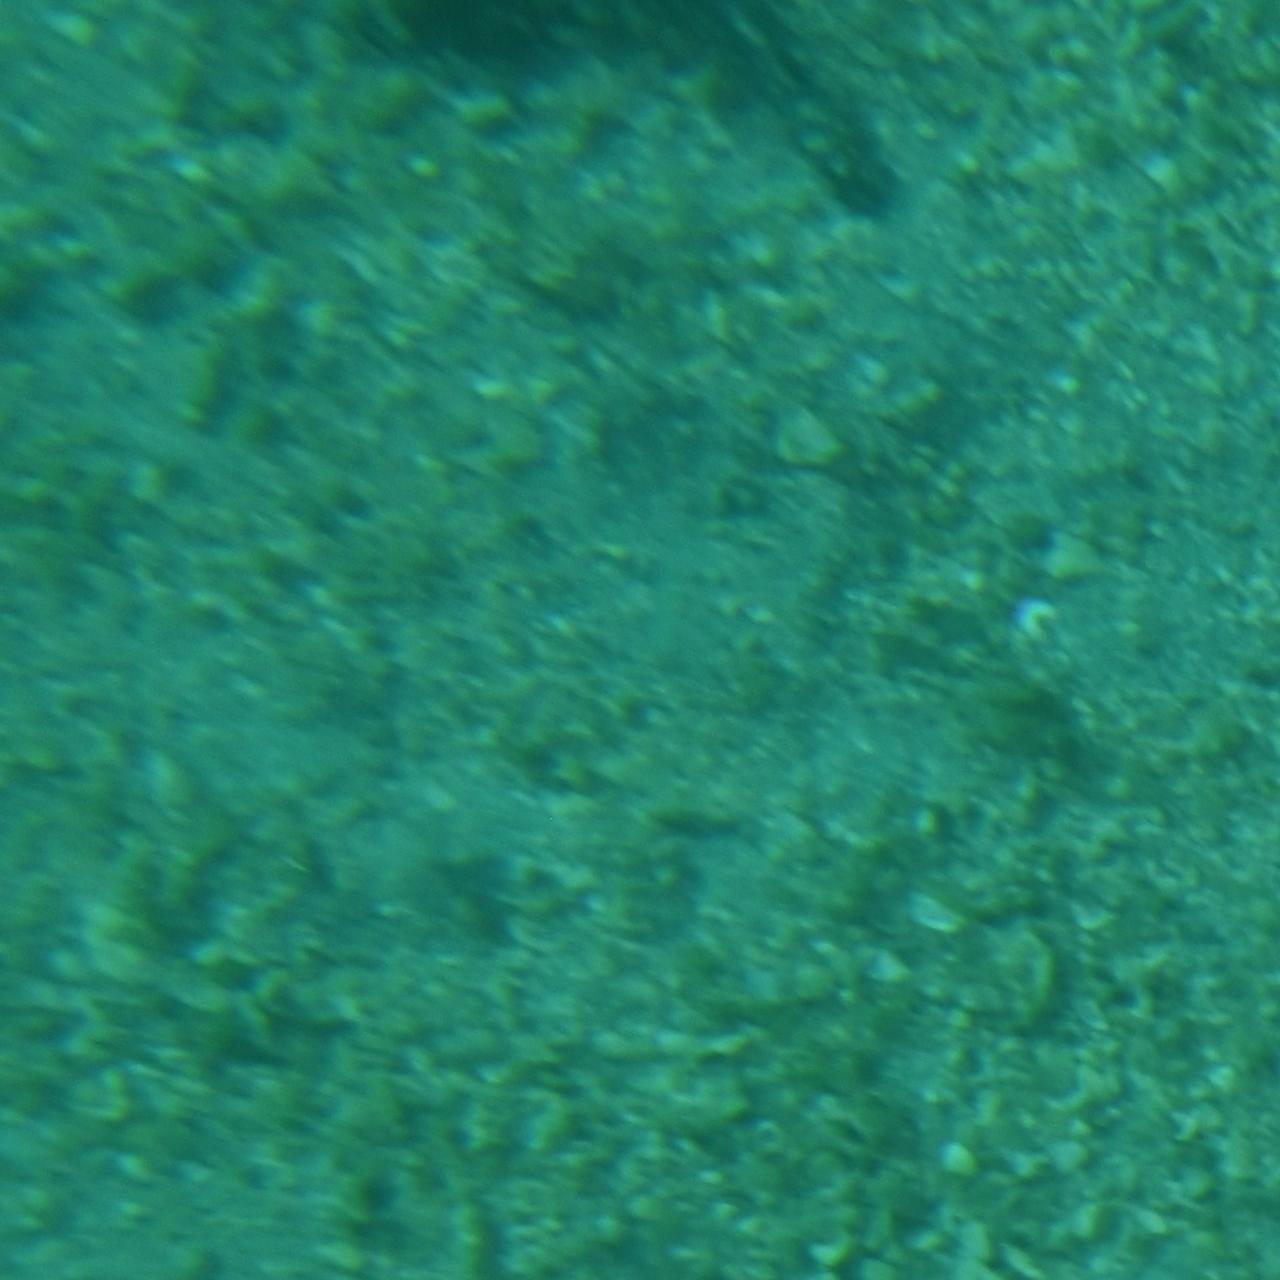Holothuria tubulosa: (365, 0, 915, 220)
